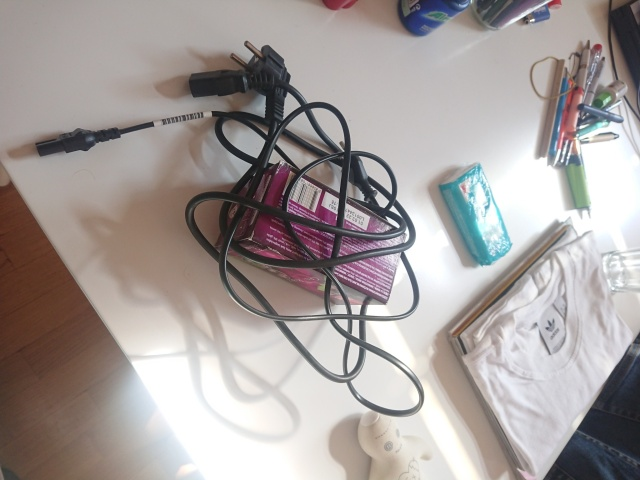Franck Black Currant Tea 60g: (211, 159, 409, 307)
